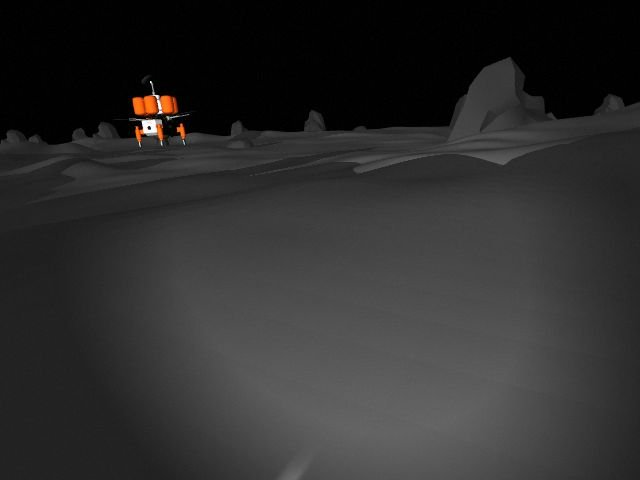homebase: (105, 72, 200, 148)
